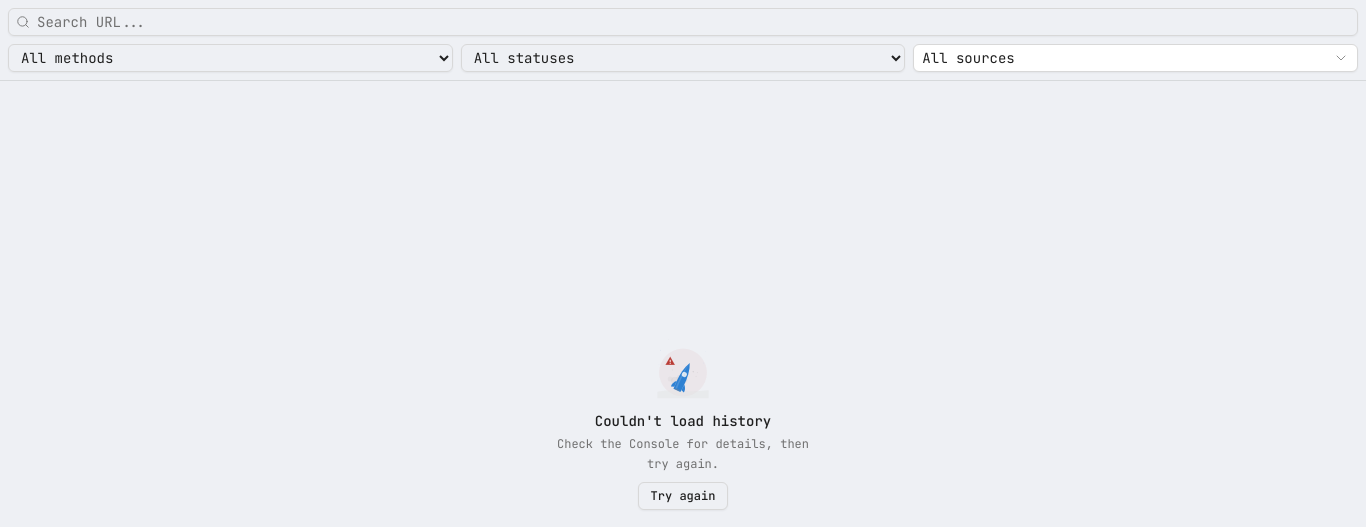
Test: HistoryPanel empty states › reports a failed load instead of claiming there is no history
Check: the message shows "Couldn't load history", box [595,412,771,430]
Check: the text "No history yet" is not shown
Click the button "Try again" at [683, 496], box [638,482,728,510]
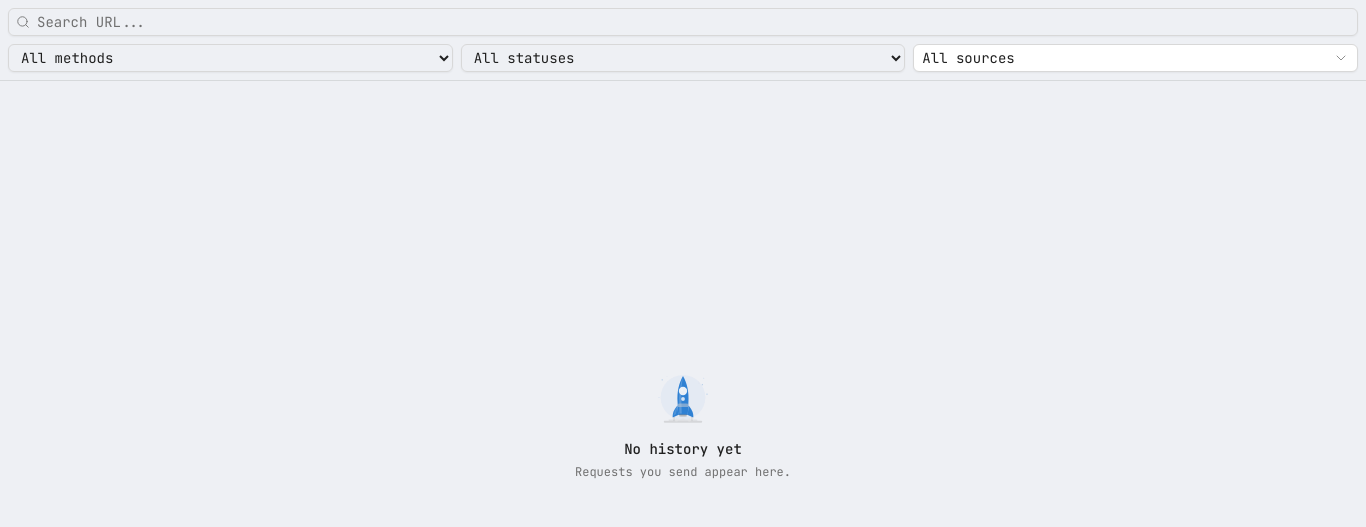
Check: the text "No history yet" is shown, box [624,440,742,458]
